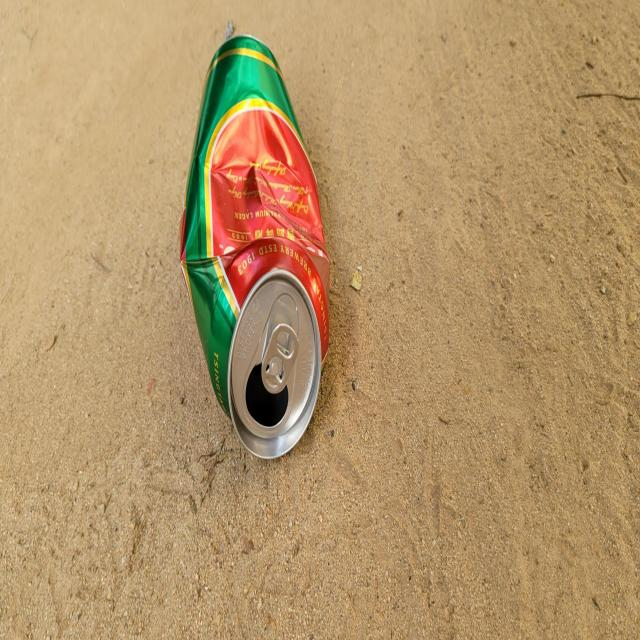can: (180, 33, 329, 457)
